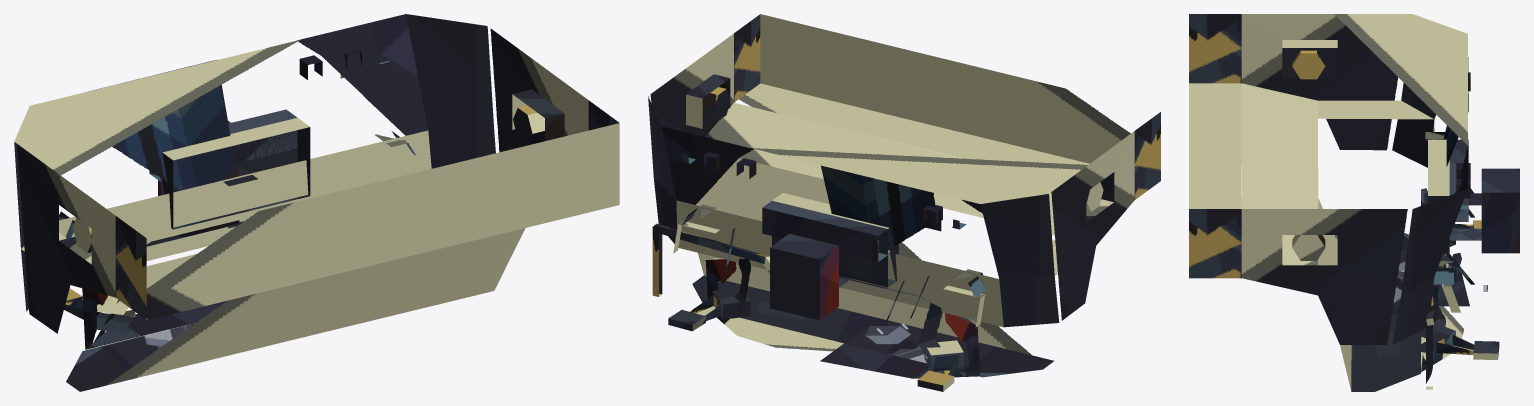
File: hxd3d_cowcatcher.obj
3 renders of one model, left to right at view 1: azimuth 30°, elevation 25°; view 2: azimuth 150°, elevation 25°; view 3: azimuth 270°, elevation 25°, orthographic. The views are drawn at different scales.
Visible parts, largest first — view 1: cube_selection_selection_selection_selection_selection_selection; view 2: cube_selection_selection_selection_selection_selection_selection; view 3: cube_selection_selection_selection_selection_selection_selection.
Boxes of the visible parts, x1=… form: cube_selection_selection_selection_selection_selection_selection: x1=14, y1=14, x2=619, y2=391; cube_selection_selection_selection_selection_selection_selection: x1=648, y1=14, x2=1160, y2=391; cube_selection_selection_selection_selection_selection_selection: x1=1189, y1=14, x2=1519, y2=391.
Bounding box in the file's own units: 3.02 × 1.41 × 2.17.
